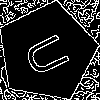U: (22, 27, 80, 80)
